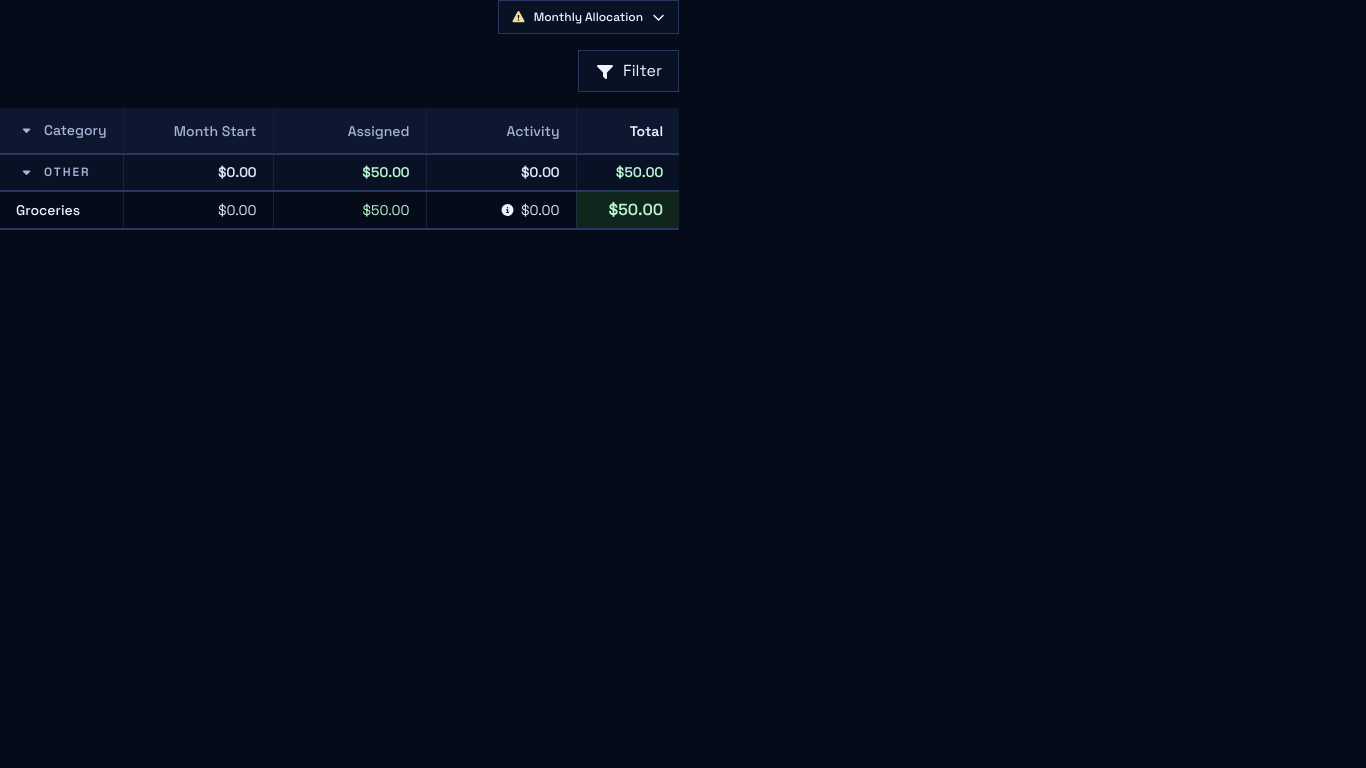
it: budget mutation feedback › shows an error and does not submit invalid inline allocation input on blur
This screenshot has width=1366, height=768.
Click the button named "Edit assigned amount for Groceries" at (354, 210), box [290,200,418,220]
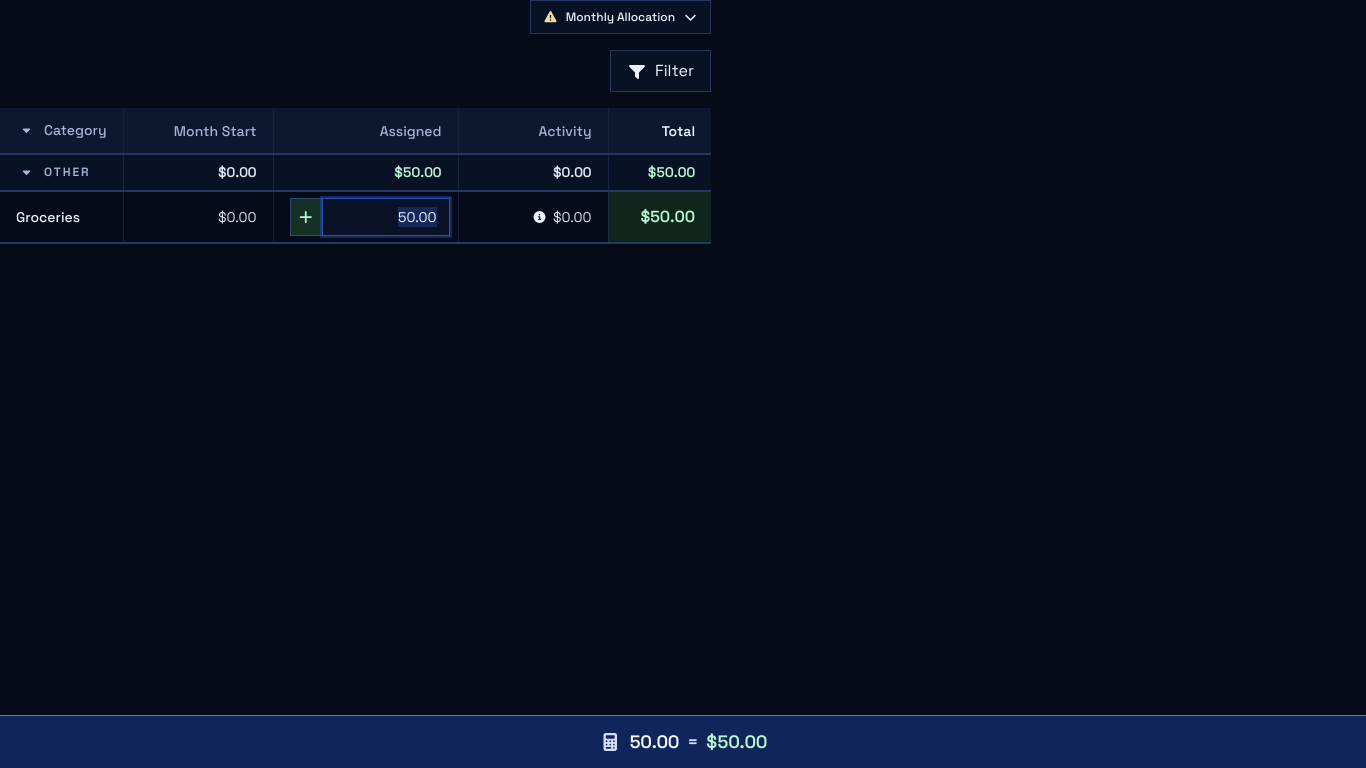
Replace the text in the field named "Assigned amount for Groceries" with "4 + ." at (386, 217), box [322,198,450,236]
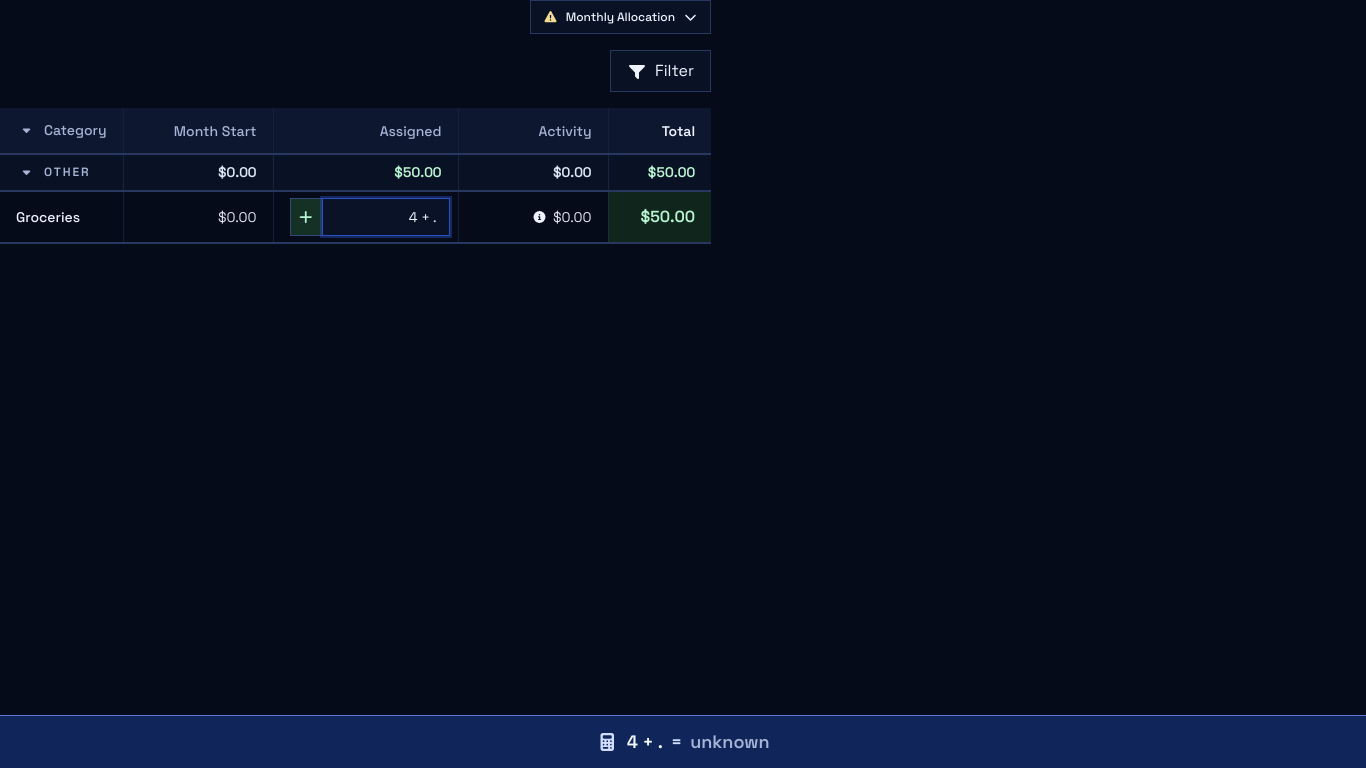
Press Tab
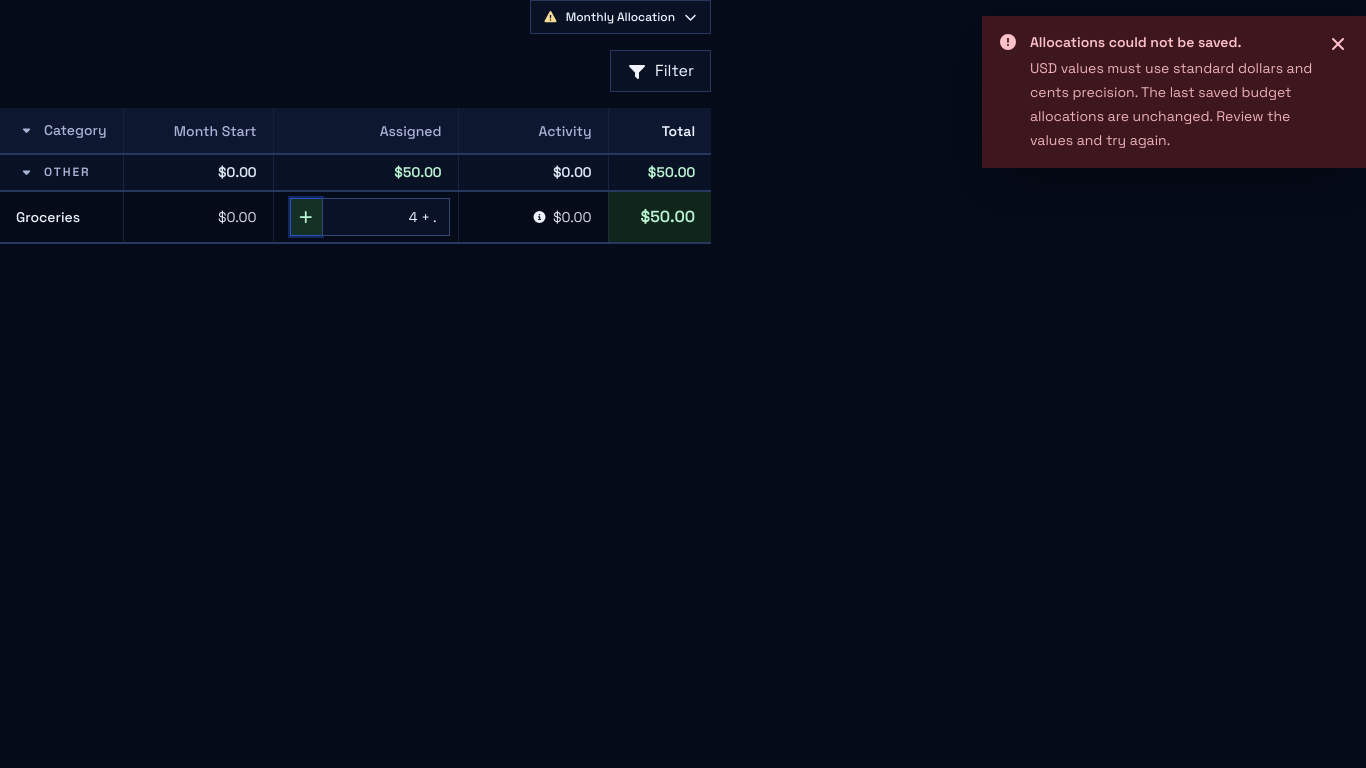
Check: the text "USD values must use standard dollars and cents precision. The last saved budget allocations are unchanged. Review the va" is shown, box [1030,59,1312,149]
